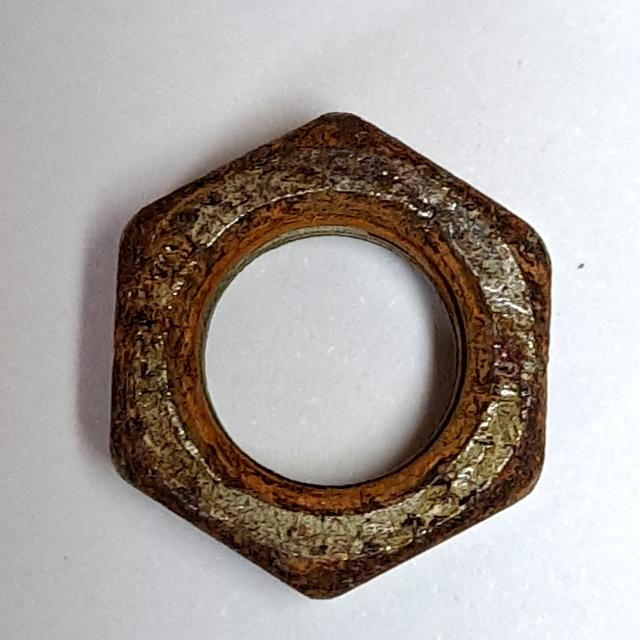Rust: (94, 89, 570, 615)
